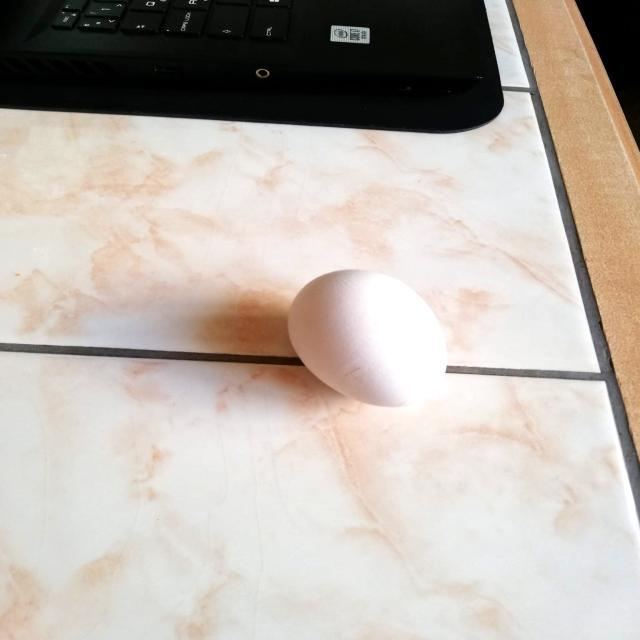egg: (283, 264, 453, 411)
